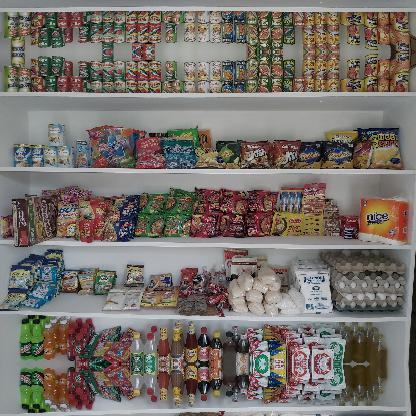Koko-Krunch: (11, 190, 64, 248)
